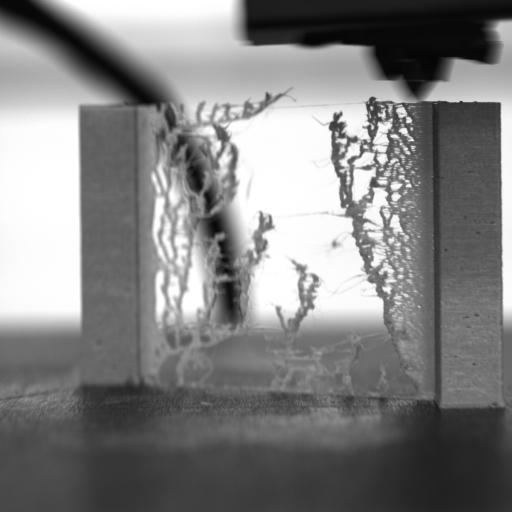spaghetti_and_stringing: (145, 93, 284, 352), (317, 99, 425, 389)
